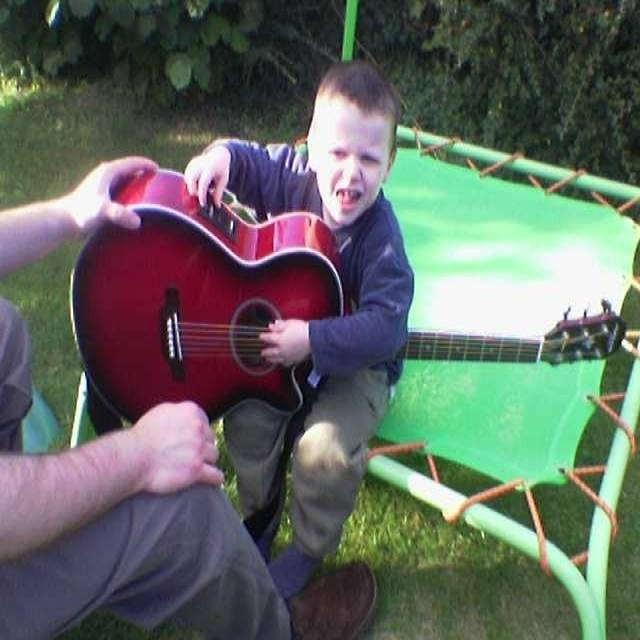guitar: (70, 167, 624, 436)
